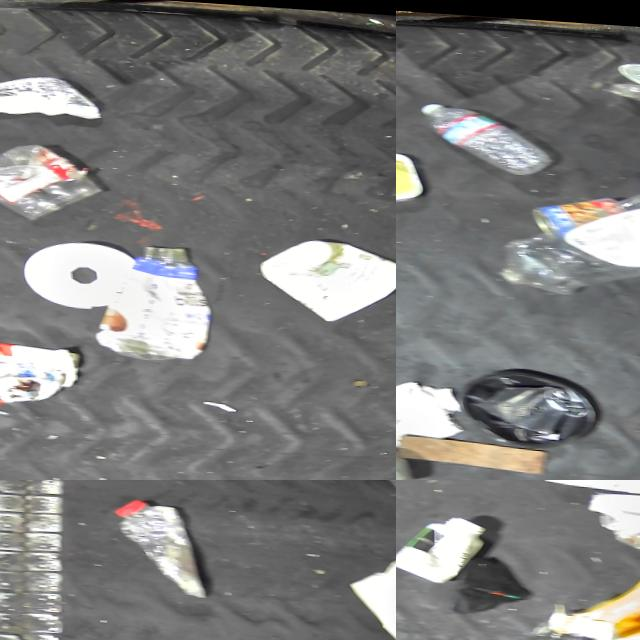can: (530, 187, 621, 231), (587, 483, 640, 546), (396, 146, 425, 202)
non_white_jug: (457, 362, 597, 446), (545, 538, 640, 640)
plastic_bottle: (420, 98, 552, 173), (111, 492, 208, 593)
